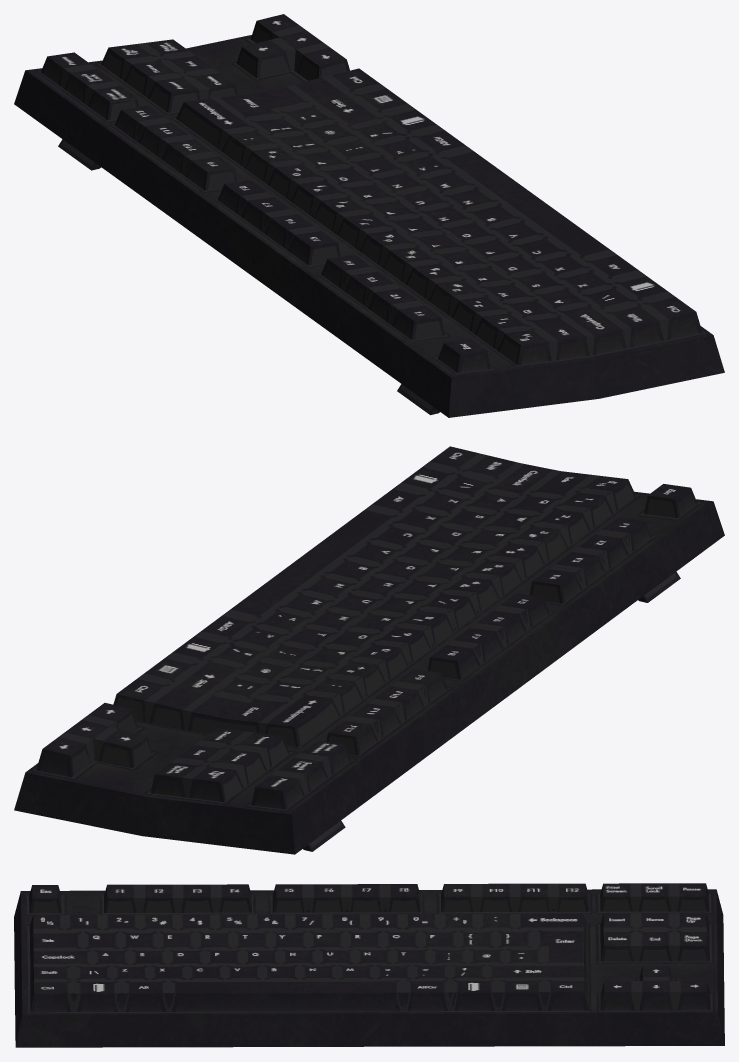
File: keyboard.glb
3 views of the same model, one above another, from view 1: azimuth 30°, elevation 25°; view 2: azimuth 150°, elevation 25°; view 3: azimuth 270°, elevation 25° (orthographic). The views are drawn at different scales.
Parts seen in each view (by area): view 1: defaultMaterial; view 2: defaultMaterial; view 3: defaultMaterial.
Boxes of the visible parts, bbox=[...] form: defaultMaterial: bbox=[14, 14, 724, 417]; defaultMaterial: bbox=[14, 446, 724, 854]; defaultMaterial: bbox=[14, 883, 724, 1047].
Size of the model in its own units: 0.2189 by 0.0542 by 0.5802.
1 material, 1 textured.
